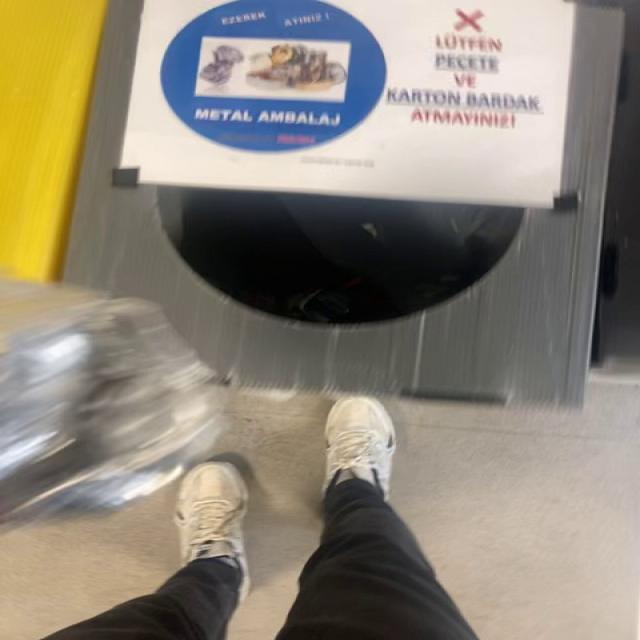metal: (1, 298, 223, 524)
